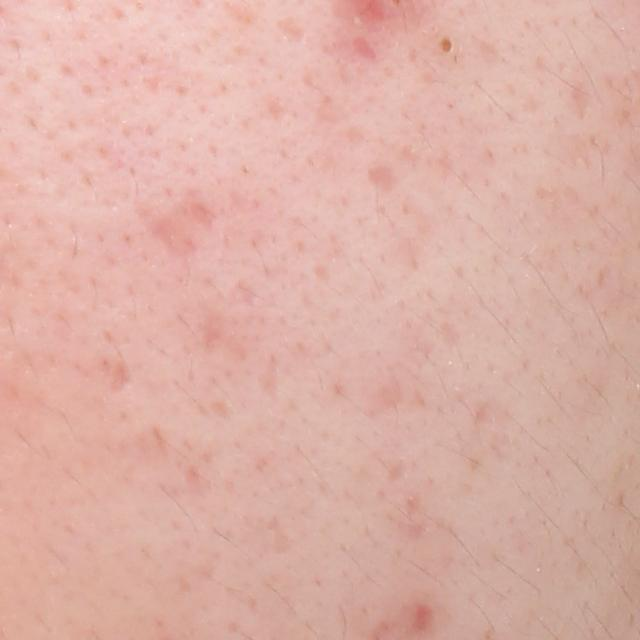atrophic_scar: (138, 187, 222, 262), (201, 313, 256, 367), (106, 350, 134, 394), (259, 354, 281, 400), (224, 278, 260, 306), (277, 16, 311, 45), (349, 35, 378, 62), (367, 165, 395, 191), (573, 80, 591, 118), (385, 459, 413, 483), (410, 604, 432, 633)
comedo: (432, 31, 468, 63)
